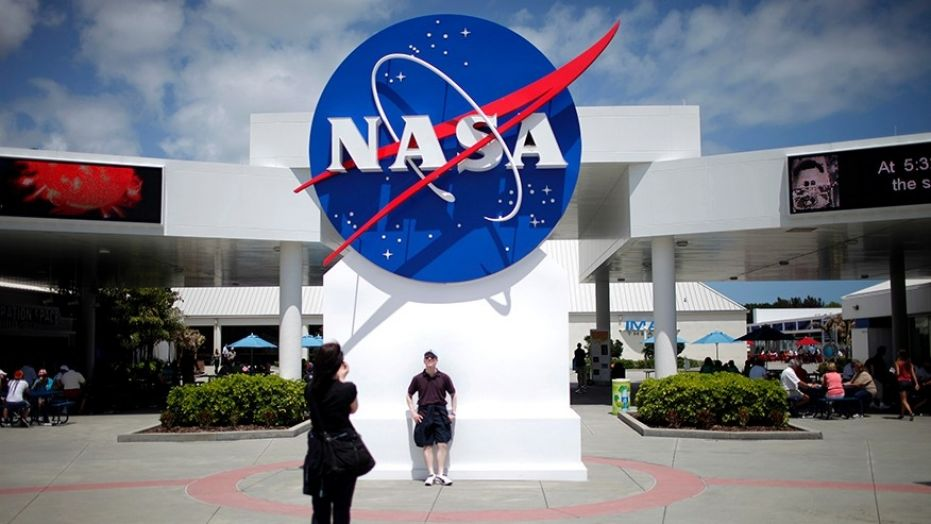NASA: (297, 5, 628, 290)
